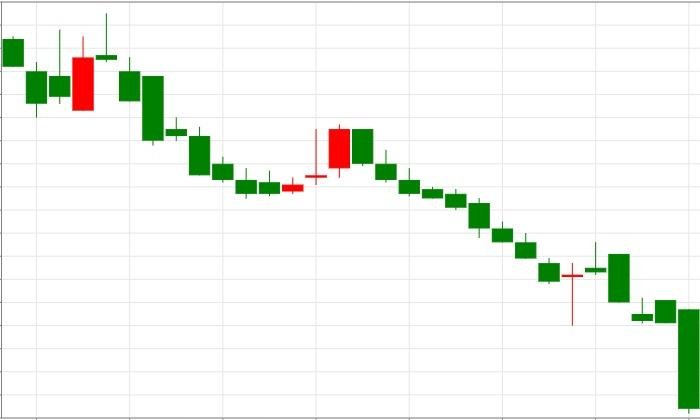three_black_crows_fall: (258, 124, 421, 197)
